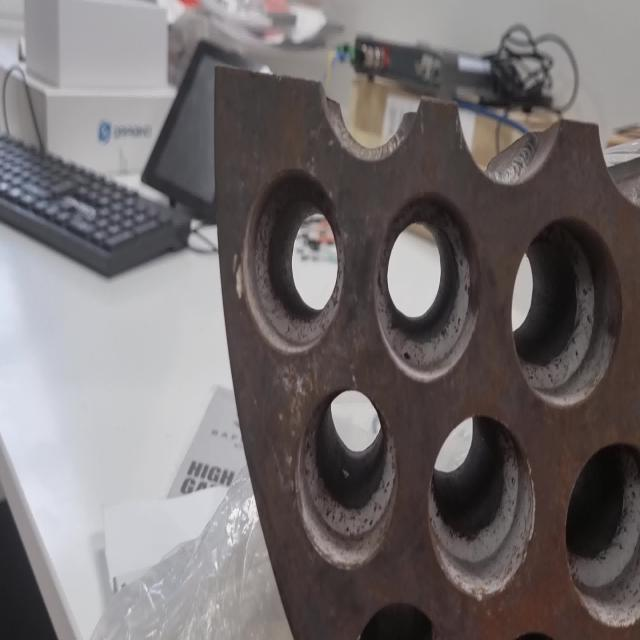Hole: (511, 215, 624, 408), (372, 190, 480, 380), (236, 168, 346, 354), (428, 409, 535, 599), (294, 389, 398, 569), (564, 441, 640, 631)
